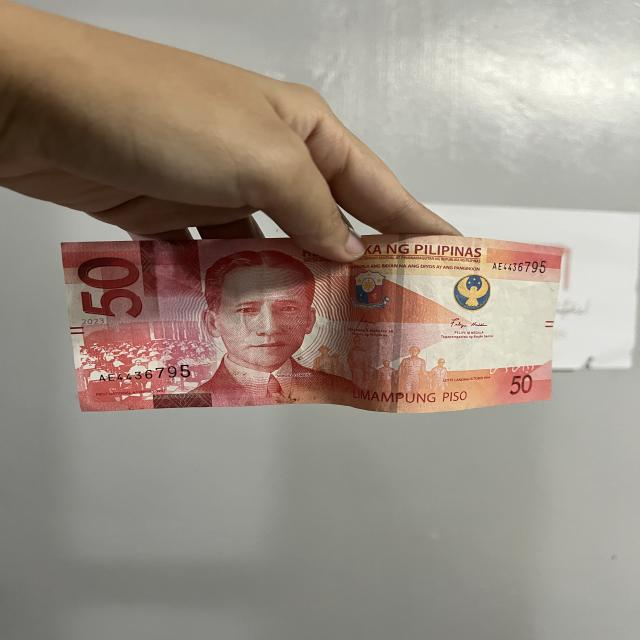see_through_mark: (388, 237, 406, 413), (475, 357, 553, 378)
value: (66, 254, 150, 324)
